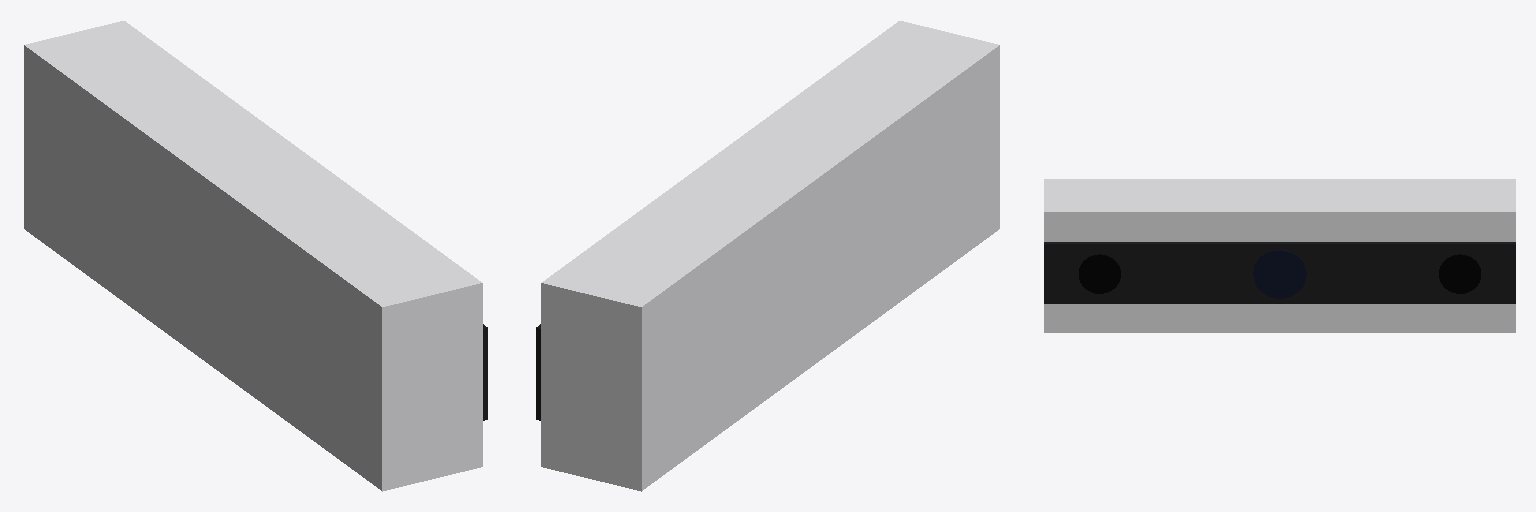
robot.urdf — mecheye_pro_m:
<?xml version="1.0"?>
<!--
  mecheye-pro-m: Mech-Mind Mech-Eye PRO M の自作マッシングモデル (CC0-1.0)。

  ============================================================================
  **これは Mech-Mind Robotics の CAD ではない。** 公式 CAD (STEP) は登録フォームの
  先にしか無く再配布可否を判断できないため、公表仕様の外形寸法に合わせて
  botrail-assets が独自に著作した簡略形状 (マッシング) である。
  実寸 CAD が要る用途には Mech-Mind の公式ダウンロードセンターを使うこと。
  ============================================================================

  寸法の根拠 (docs.mech-mind.net Mech-Eye 2.3.1 PRO S/PRO M specifications):
    - 外形 353 × 57 × 100 mm (バー長 Y × 奥行 X × 高さ Z)
    - 基線 270 mm → 前面レンズ 2 個を y = ±135 mm に配置
    - 前面の黒帯・レンズ径・プロジェクタ窓の意匠は**当方設計** (実機の写しではない)

  座標系: 原点 = mount = **背面中央** (実機は背面/上面の M6 穴でブラケット取付)。
  +X = 光軸 (前面方向)、+Y = バー長軸、+Z = 上。
  camera_optical_frame は前面中央 (レンズ間の中点、x = 60.5 mm) に置いた
  ROS 光学規約 (+Z 前方・+Y 下)。実機の深度参照フレームの公表値は無いため
  近似である (基線中点 = 妥当な中立点)。
-->
<robot name="mecheye_pro_m">

  <material name="mecheye_body">
    <color rgba="0.92 0.92 0.93 1"/>
  </material>
  <material name="mecheye_band">
    <color rgba="0.15 0.15 0.16 1"/>
  </material>
  <material name="mecheye_lens">
    <color rgba="0.05 0.05 0.05 1"/>
  </material>
  <material name="mecheye_projector">
    <color rgba="0.10 0.12 0.20 1"/>
  </material>

  <link name="mount"/>

  <joint name="mount_to_body" type="fixed">
    <parent link="mount"/>
    <child link="body"/>
    <origin xyz="0 0 0" rpy="0 0 0"/>
  </joint>

  <link name="body">
    <!-- 筐体: 353 (Y) x 57 (X) x 100 (Z)、背面が x=0 -->
    <visual>
      <origin xyz="0.0285 0 0" rpy="0 0 0"/>
      <geometry>
        <box size="0.057 0.353 0.100"/>
      </geometry>
      <material name="mecheye_body"/>
    </visual>
    <!-- 前面の黒帯 (意匠) -->
    <visual>
      <origin xyz="0.0585 0 0" rpy="0 0 0"/>
      <geometry>
        <box size="0.003 0.353 0.050"/>
      </geometry>
      <material name="mecheye_band"/>
    </visual>
    <!-- ステレオカメラレンズ x2 (基線 270 mm) -->
    <visual>
      <origin xyz="0.0605 0.135 0" rpy="0 1.5707963267948966 0"/>
      <geometry>
        <cylinder radius="0.016" length="0.002"/>
      </geometry>
      <material name="mecheye_lens"/>
    </visual>
    <visual>
      <origin xyz="0.0605 -0.135 0" rpy="0 1.5707963267948966 0"/>
      <geometry>
        <cylinder radius="0.016" length="0.002"/>
      </geometry>
      <material name="mecheye_lens"/>
    </visual>
    <!-- 中央の構造化光プロジェクタ窓 (青 LED) -->
    <visual>
      <origin xyz="0.0605 0 0" rpy="0 1.5707963267948966 0"/>
      <geometry>
        <cylinder radius="0.020" length="0.002"/>
      </geometry>
      <material name="mecheye_projector"/>
    </visual>
    <collision>
      <!-- 前面の張り出し (帯・レンズ) まで覆う一体の箱 -->
      <origin xyz="0.0315 0 0" rpy="0 0 0"/>
      <geometry>
        <box size="0.063 0.353 0.100"/>
      </geometry>
    </collision>
    <inertial>
      <mass value="1.9"/>
      <origin xyz="0.0285 0 0" rpy="0 0 0"/>
      <inertia ixx="0.02" ixy="0" ixz="0" iyy="0.002" iyz="0" izz="0.021"/>
    </inertial>
  </link>

  <joint name="body_to_optical" type="fixed">
    <parent link="body"/>
    <child link="camera_optical_frame"/>
    <origin xyz="0.0605 0 0" rpy="-1.5707963267948966 0 -1.5707963267948966"/>
  </joint>

  <link name="camera_optical_frame"/>

</robot>

--- What the picture shows (computed from the rendered views, not written in the file) ---
3 views of the same robot in one strip: view 1: azimuth 30°, elevation 25°; view 2: azimuth 150°, elevation 25°; view 3: azimuth 270°, elevation 25° (orthographic).
Model mecheye_pro_m with 3 links and 2 joints (2 fixed), rooted at mount, posed all joints at 0.
Visible links, largest first — view 1: body; view 2: body; view 3: body.
Link boxes in pixels (left/top/right/bottom): body: left=24, top=21, right=487, bottom=491; body: left=536, top=21, right=999, bottom=491; body: left=1044, top=179, right=1515, bottom=332.
Bounding box of the posed robot: 0.0615 × 0.353 × 0.1 m (x, y, z).
Geometry: primitives only (box / cylinder / sphere), no mesh files.
